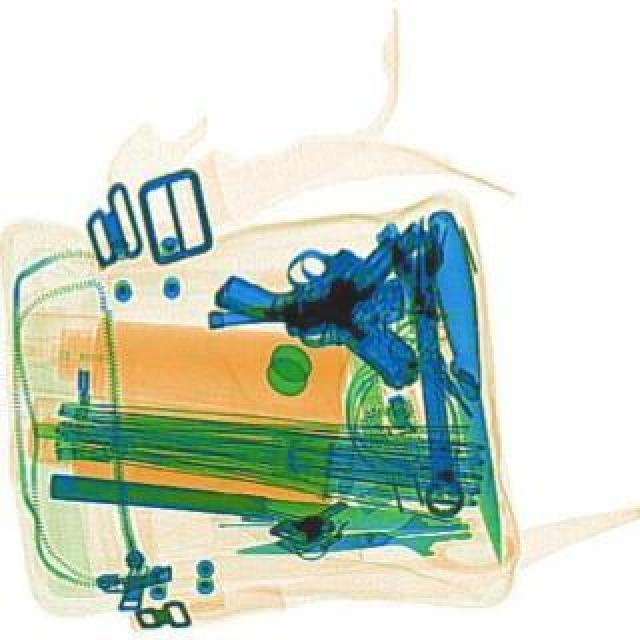gun: (204, 162, 430, 370), (202, 274, 418, 410)
knife: (422, 208, 524, 564), (46, 472, 458, 538), (232, 502, 470, 570)
scissors: (386, 228, 474, 516)
